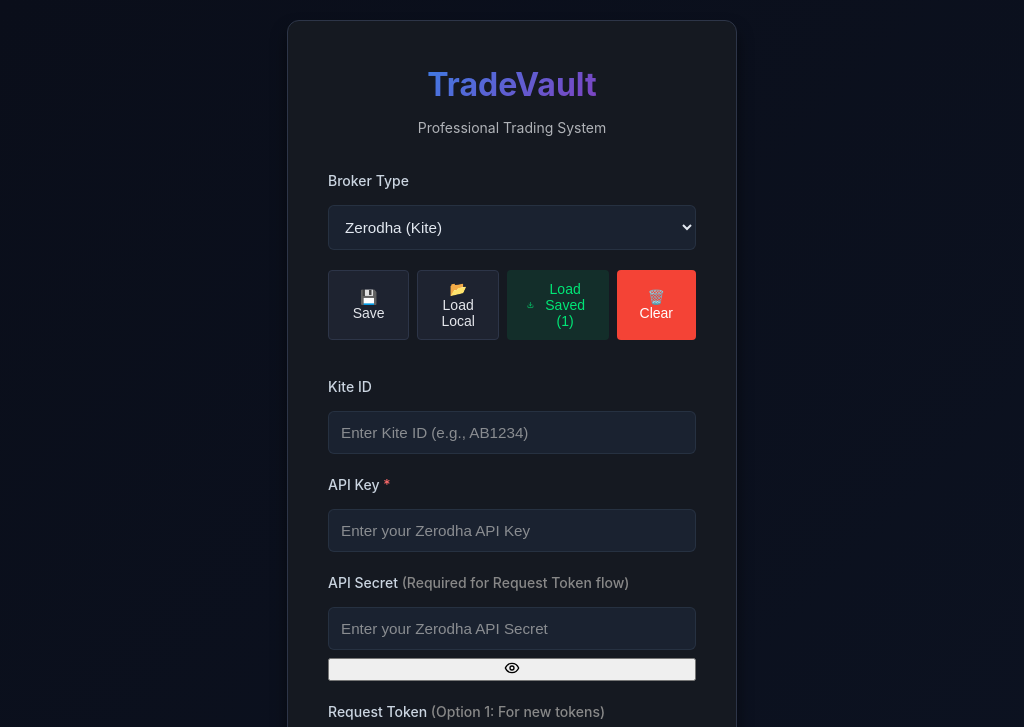
Login Component › Saved Credentials › should show saved credentials menu when clicked
Click the button "Load Saved (1)" at (558, 305), box top-left (507, 270), bottom-right (609, 340)
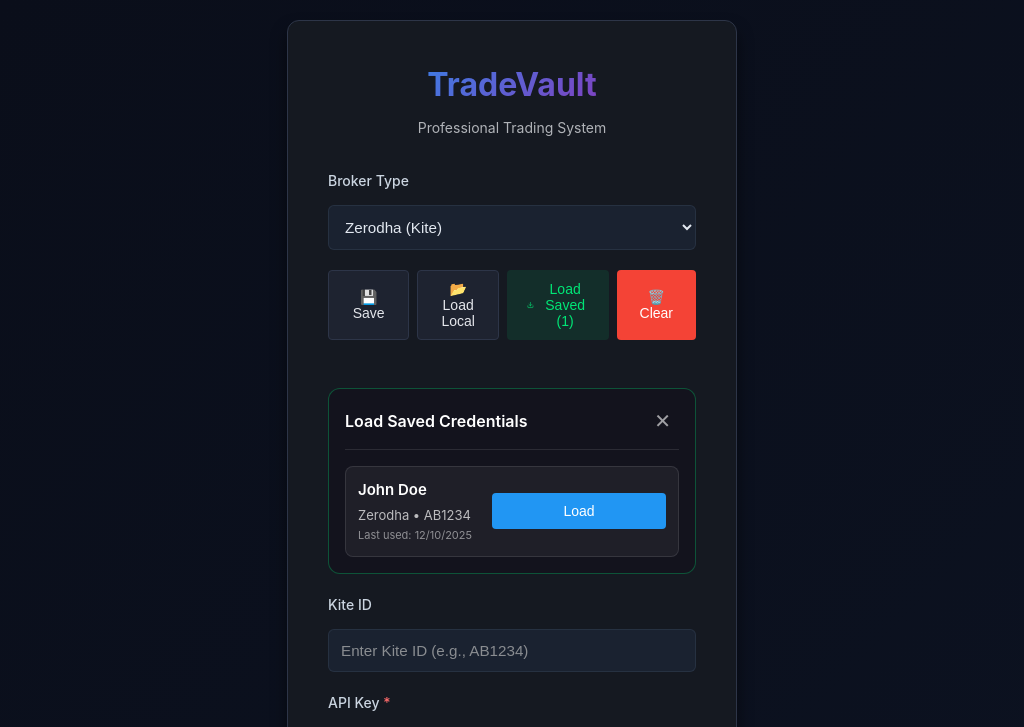
Expected: the heading "Load Saved Credentials" is shown, top-left (345, 409), bottom-right (528, 433)
Expected: the text "John Doe" is shown, top-left (358, 480), bottom-right (427, 499)
Expected: the text "Zerodha • AB1234" is shown, top-left (358, 506), bottom-right (471, 522)
